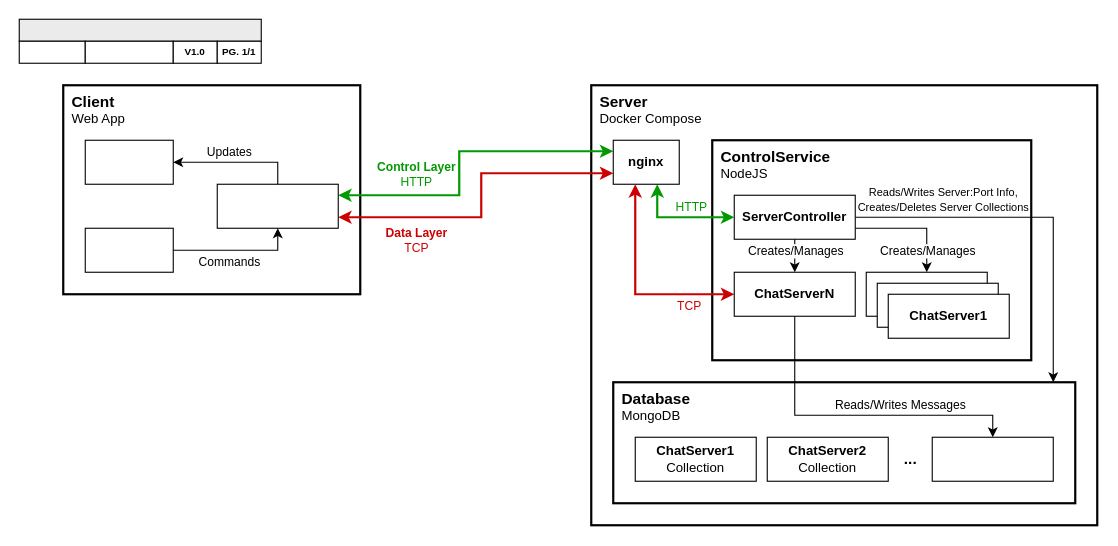
Some shapes in this 1118 by 546 pixel diagram are drawn without their labels. Here are the shapes that lost their labels. From the top down, the centre of each, then its label:
pixel 139 29: System Architecture Diagram
pixel 51 51: TEAM 29
pixel 128 51: Apr. 4, 2025
pixel 128 161: ChatUI
pixel 277 205: MessageService
pixel 128 249: ControlUI
pixel 992 458: ChatServerN Collection
